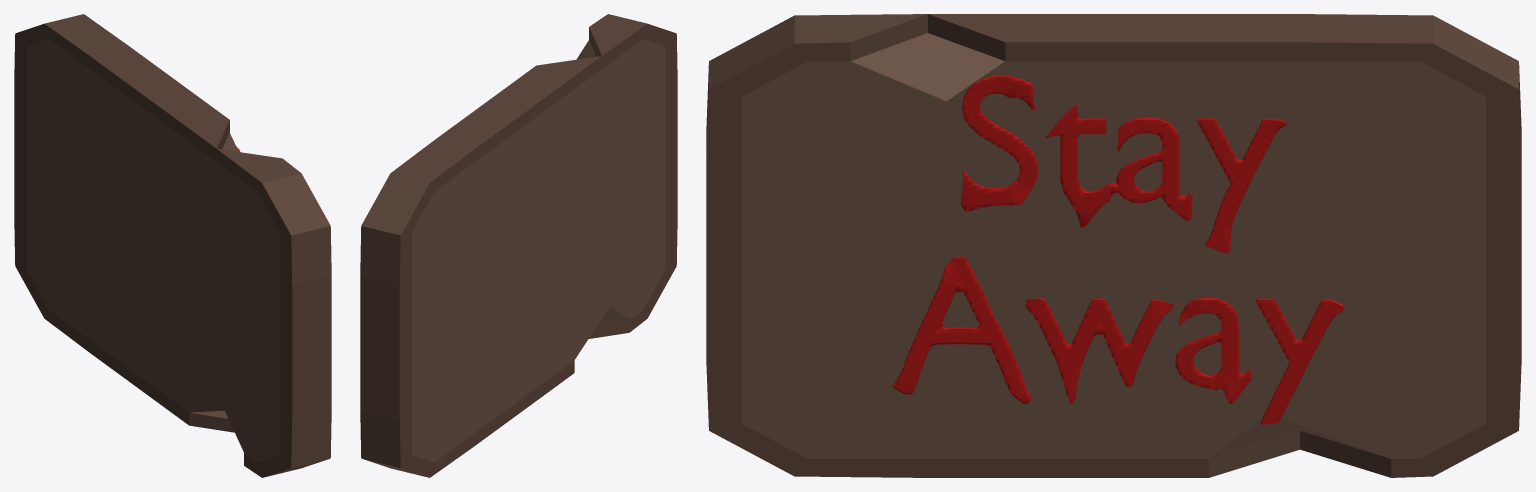
Rendered from Stay_Away_Sign.fbx.
3 renders of one model, left to right at view 1: azimuth 30°, elevation 25°; view 2: azimuth 150°, elevation 25°; view 3: azimuth 270°, elevation 25°, orthographic. The views are drawn at different scales.
Parts seen in each view (by area): view 1: Text; view 2: Text; view 3: Text.
Boxes of the visible parts, box(x1,y1,x2,y2) form: Text: box(14, 14, 331, 477); Text: box(360, 14, 677, 477); Text: box(706, 14, 1521, 477).
Bounding box in the file's own units: 17.73 × 117 × 198.
